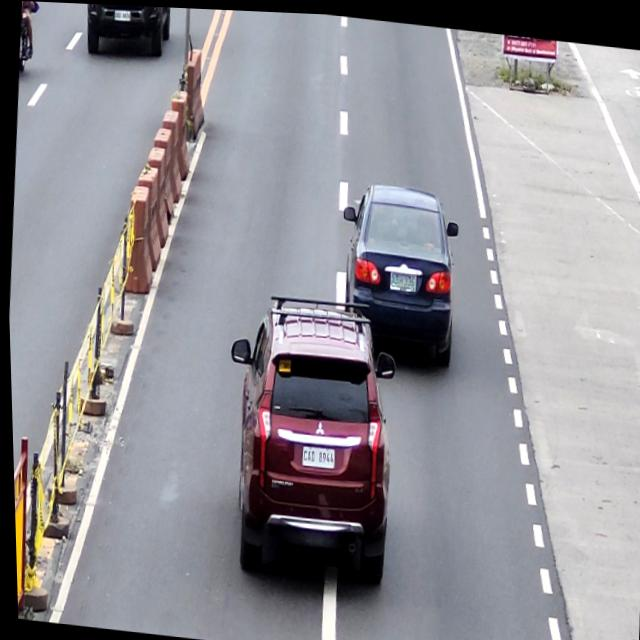Car: (215, 291, 401, 587), (331, 174, 462, 367)
License-Plate: (299, 443, 332, 466), (387, 268, 414, 289)
